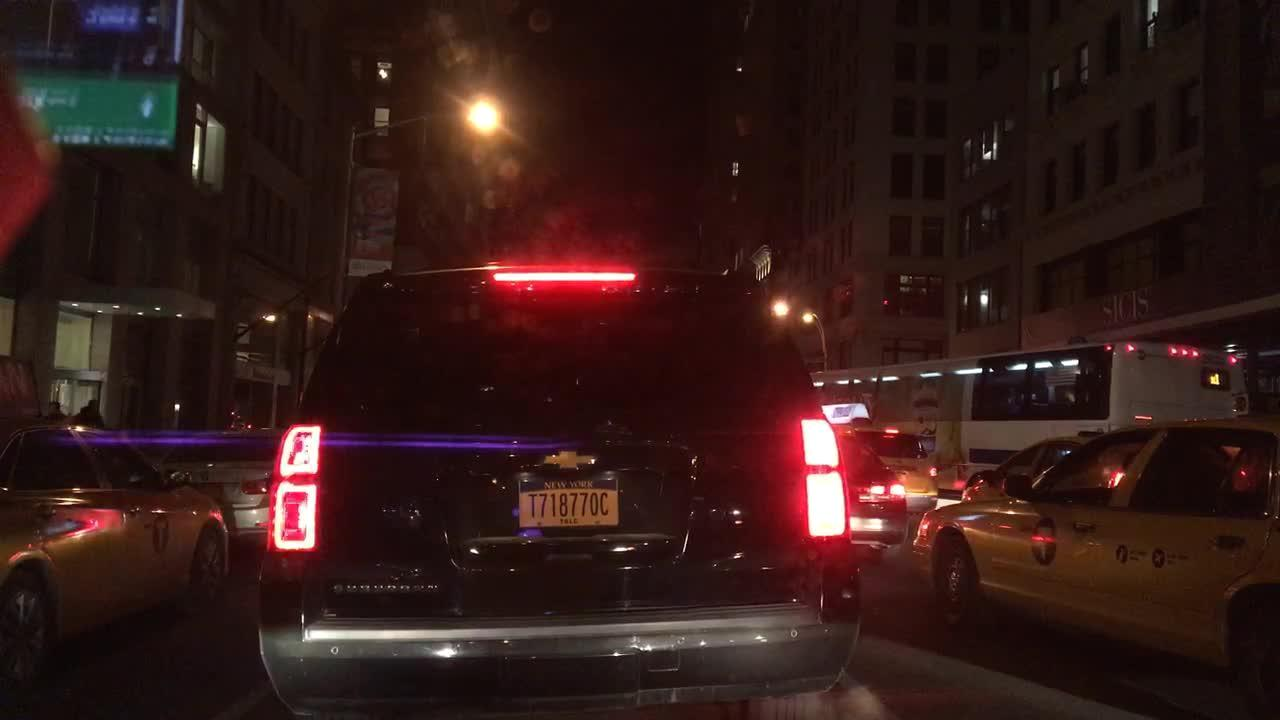chevrolet: (542, 444, 599, 477)
